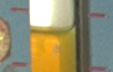border: (86, 12, 109, 19), (9, 6, 30, 13), (88, 65, 108, 72), (10, 61, 30, 68)
liquidlevel: (29, 24, 79, 37)
